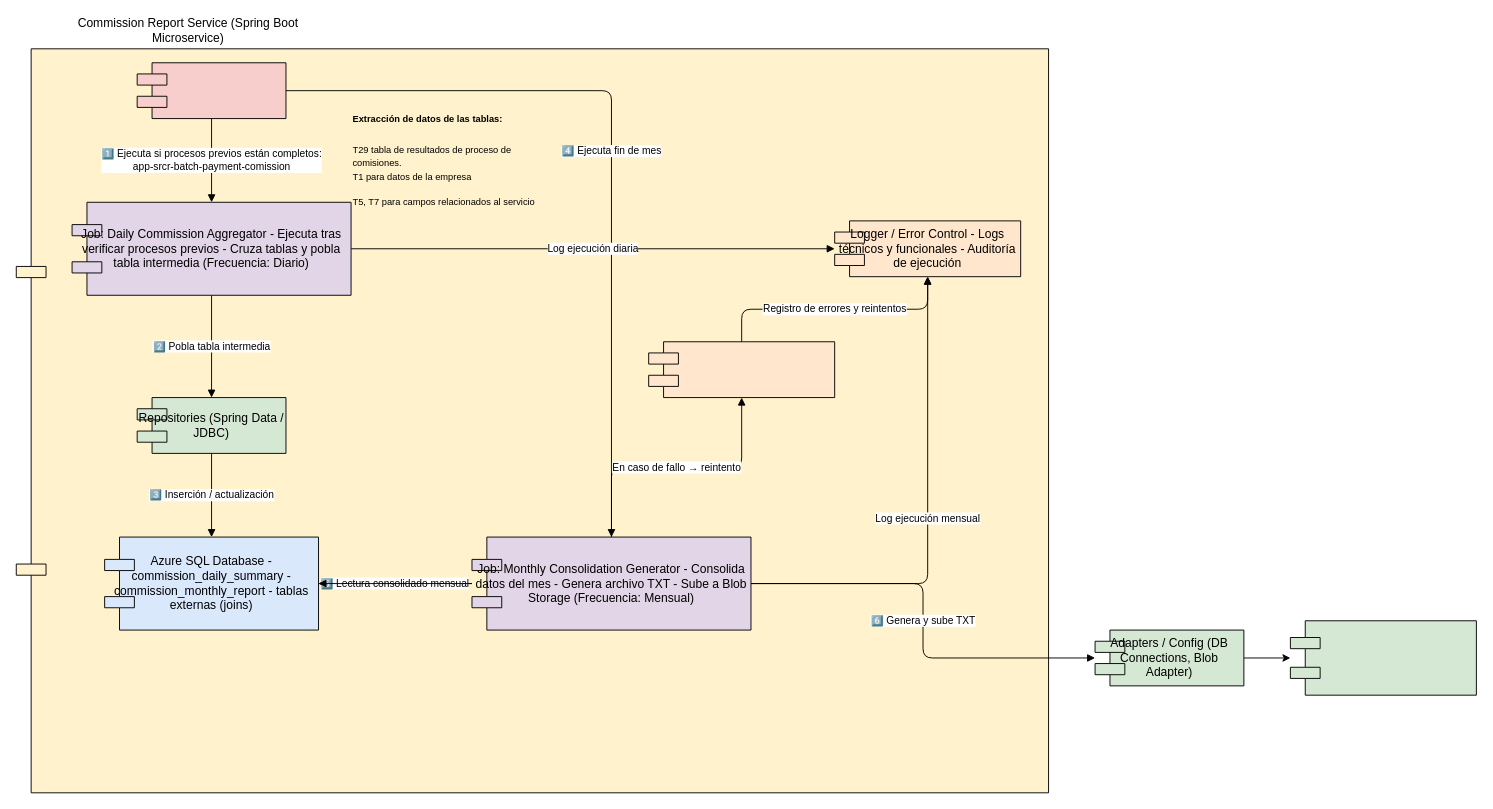
This 1493x809 diagram has some shape labels left out. Each missing label, with the box of its shape:
Azure Blob Storage - Almacena archivos TXT generados: (1289, 620, 1476, 695)
Retry Handler - 3 intentos: (648, 341, 835, 398)
Scheduler (Spring Batch): (136, 62, 286, 119)
